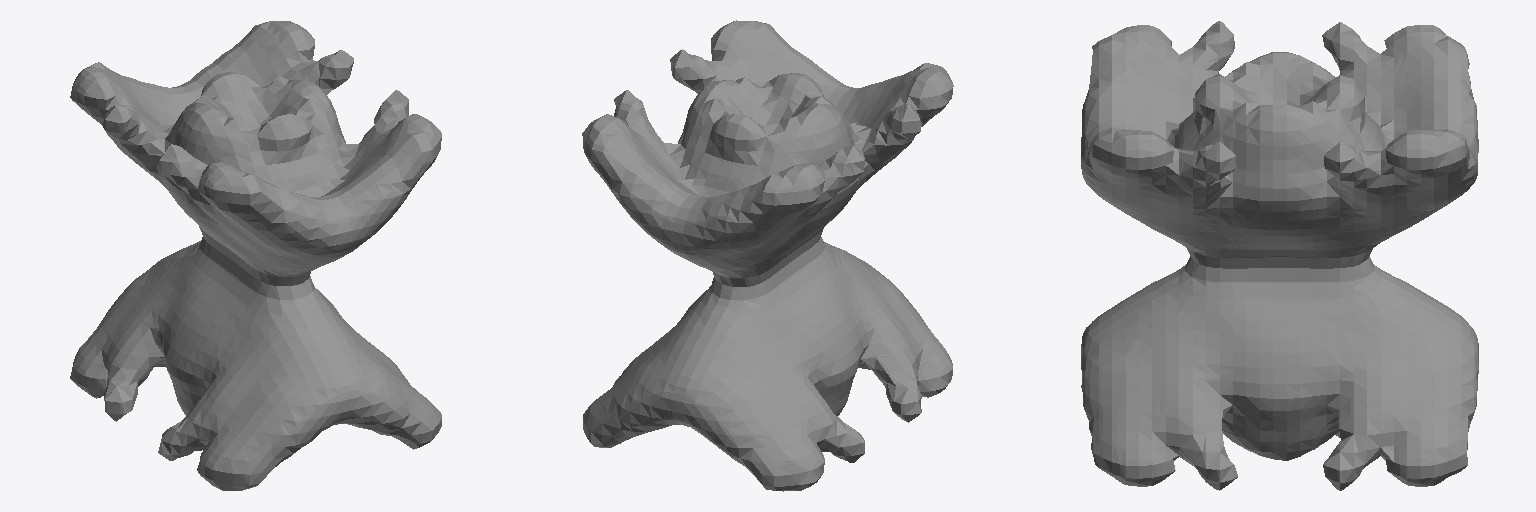
The robot description file, URDF, robot "cube.urdf":
<?xml version="0.0" ?> 
<robot name="cube.urdf"> 
<link name="legobrick"> 
<contact> 
<lateral_friction value="5.0"/> 
<rolling_friction value="0.0"/> 
<contact_cfm value="0.0"/> 
<contact_erp value="1.0"/> 
</contact> 
<inertial> 
<origin rpy="0 0 0" xyz="0.0 0.0 0.0"/> 
<mass value=".01"/> 
<inertia ixx="1" ixy="0" ixz="0" iyy="1" iyz="0" izz="1"/> 
</inertial> 
<visual> 
<origin rpy="1.570796 0 0" xyz="-0.026631210456555206 0.02663766616464306 -0.026608426867301253"/> 
<geometry> 
<mesh filename="R22_3.obj" scale="0.0005695310642008195 0.0005695310642008195 0.0005695310642008195"/> 
</geometry> 
<material name="yellow"> 
<color rgba="0.6 0.6 0.6 1"/> 
</material> 
</visual> 
<collision> 
<origin rpy="1.570796 0 0" xyz="-0.026631210456555206 0.02663766616464306 -0.026608426867301253"/> 
<geometry> 
<mesh filename="R22_3.obj" scale="0.0005695310642008195 0.0005695310642008195 0.0005695310642008195"/> 
</geometry> 
</collision> 
</link> 
</robot>

--- Facts derived from the render (not from the file) ---
Views: 3 orthographic renders of the robot side by side, from view 1: azimuth 30°, elevation 25°; view 2: azimuth 150°, elevation 25°; view 3: azimuth 270°, elevation 25°.
Model cube.urdf with 1 links and 0 joints (none), rooted at legobrick, posed every joint at zero.
Links seen in each view (by area): view 1: legobrick; view 2: legobrick; view 3: legobrick.
Link boxes in pixels (bbox=[...]): legobrick: bbox=[70, 21, 441, 490]; legobrick: bbox=[582, 20, 953, 491]; legobrick: bbox=[1081, 21, 1478, 490].
Bounding box of the posed robot: 0.0456 × 0.057 × 0.056 m (x, y, z).
Meshes: 1 distinct files referenced, 1 mesh visuals loaded (1 OBJ).
